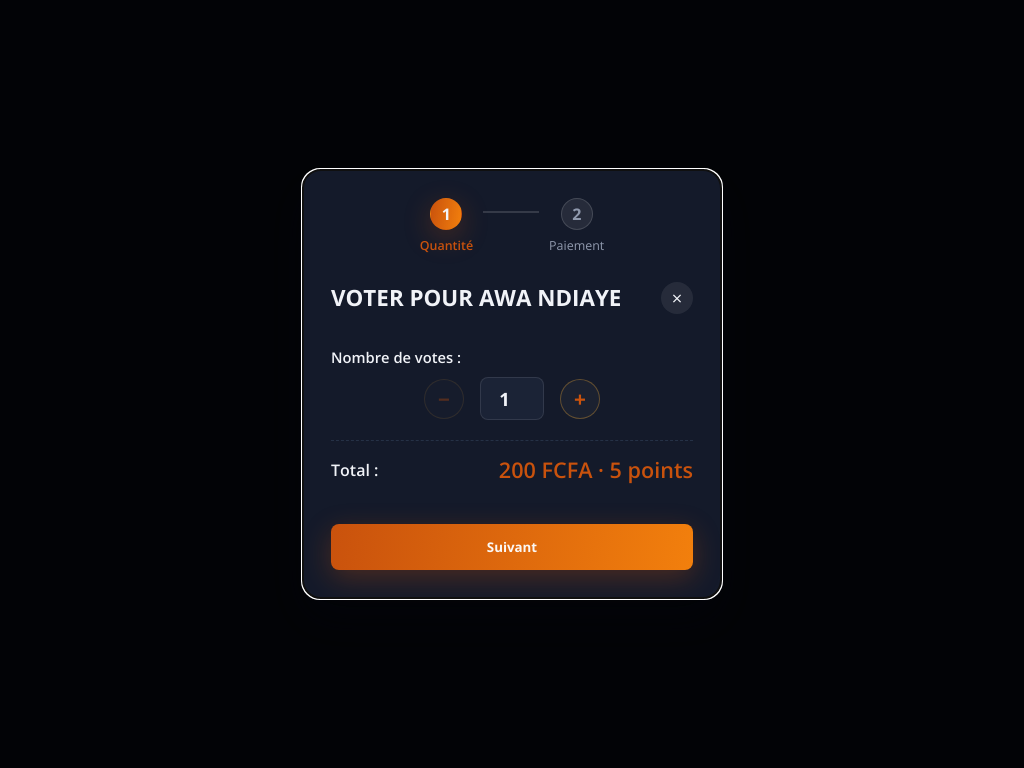
Scenario: VoteModal › calcule le total et les points selon la règle 200 FCFA = 5 points
Expected: the text "200 FCFA · 5 points" is shown, [499,455,693,484]
Click the button named "Un vote de plus" at (580, 398), box [560,378,600,418]
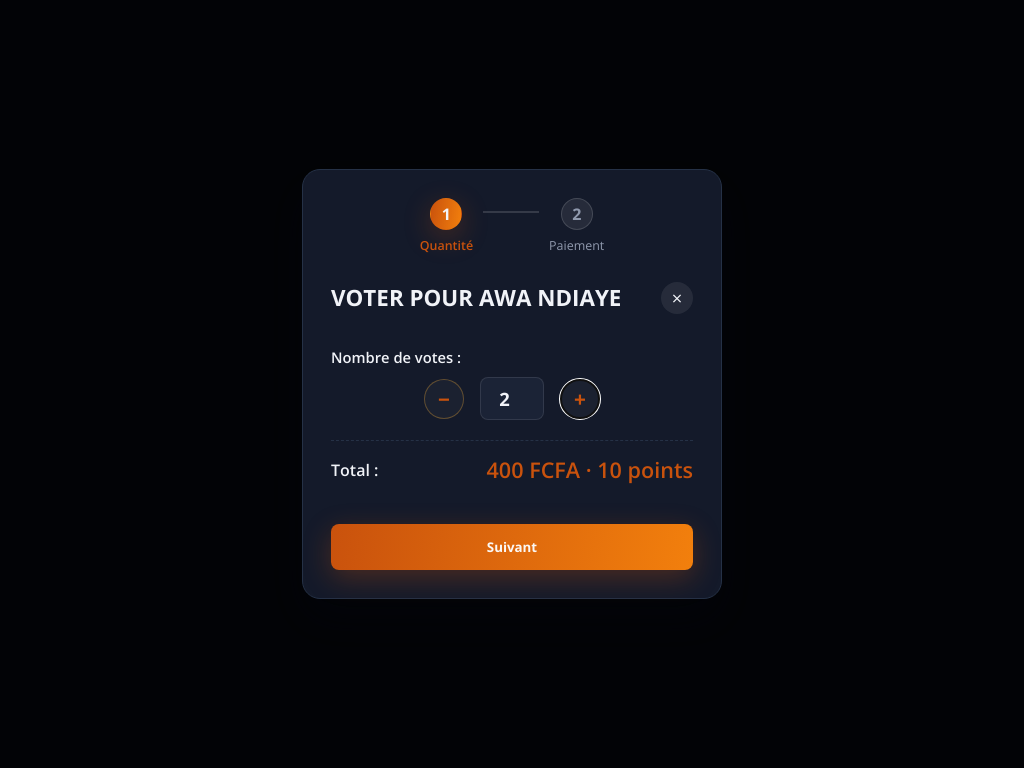
Click the button named "Un vote de plus" at (580, 398), box [560,378,600,418]
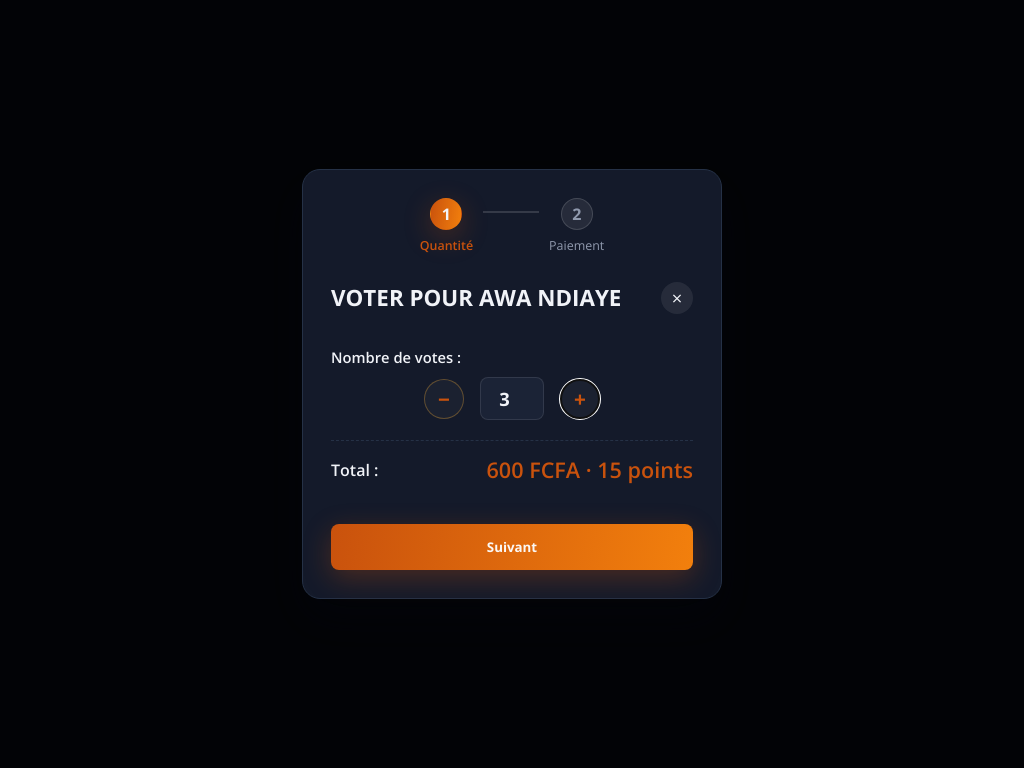
Expected: the text "600 FCFA · 15 points" is shown, [486,455,693,484]
